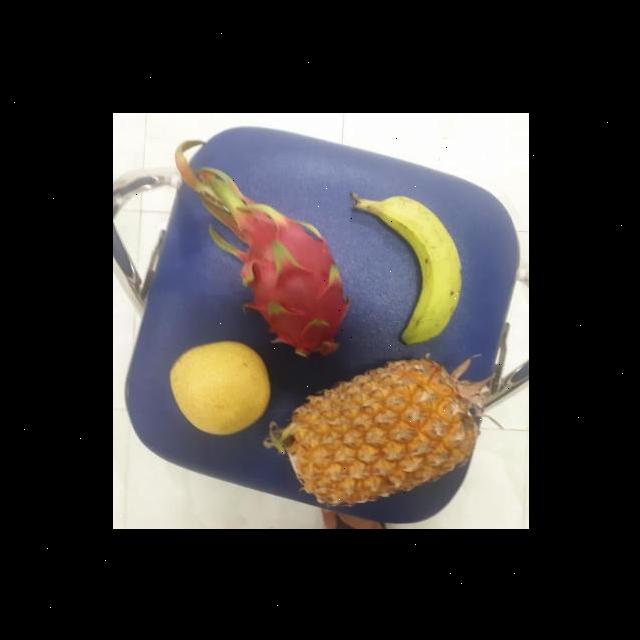banana: (353, 194, 466, 343)
pear: (167, 341, 274, 432)
pineapple: (280, 362, 482, 508)
pitaya: (228, 201, 354, 360)
